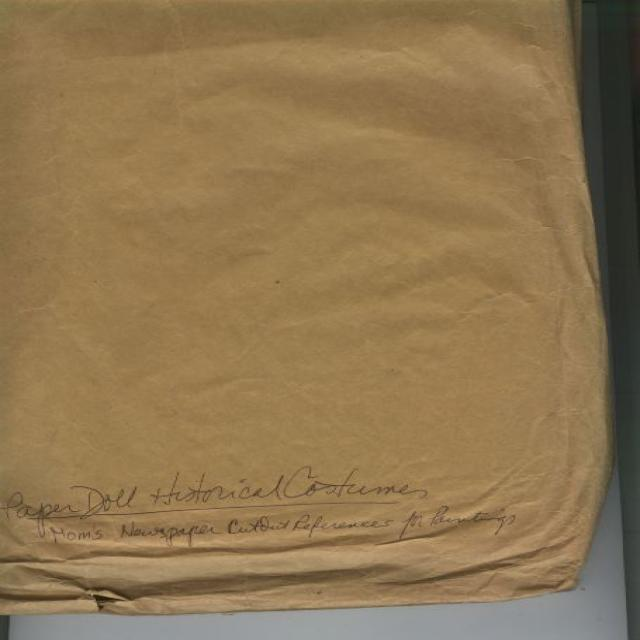cardboard: (1, 11, 614, 618)
